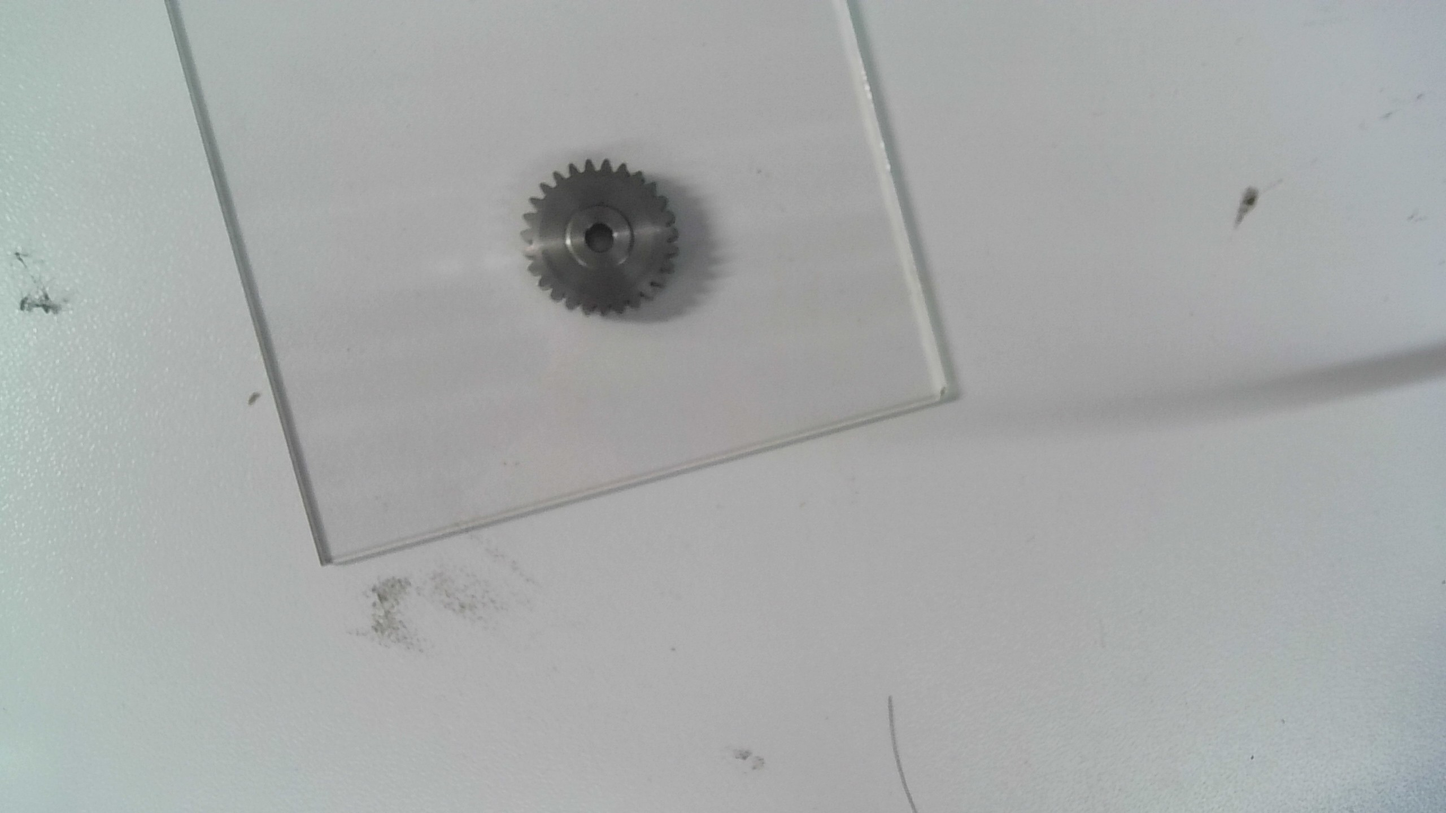gear: (519, 158, 682, 324)
